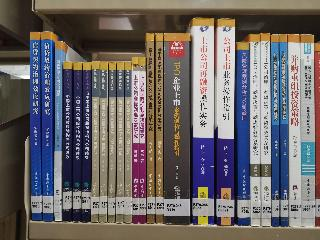book-spine: (162, 33, 192, 225), (190, 18, 216, 226), (216, 20, 235, 226), (233, 42, 250, 226), (299, 34, 315, 228), (286, 34, 302, 226), (38, 31, 54, 221), (269, 33, 282, 227), (248, 34, 261, 227), (28, 31, 41, 220), (260, 32, 271, 228), (80, 61, 92, 222), (71, 62, 83, 222), (154, 32, 164, 223), (62, 61, 73, 221), (280, 33, 289, 227), (147, 33, 156, 224), (53, 40, 62, 222), (122, 62, 132, 223), (130, 55, 139, 224), (107, 62, 116, 223), (138, 56, 146, 224), (100, 61, 108, 223), (117, 62, 124, 223), (92, 61, 99, 221)
